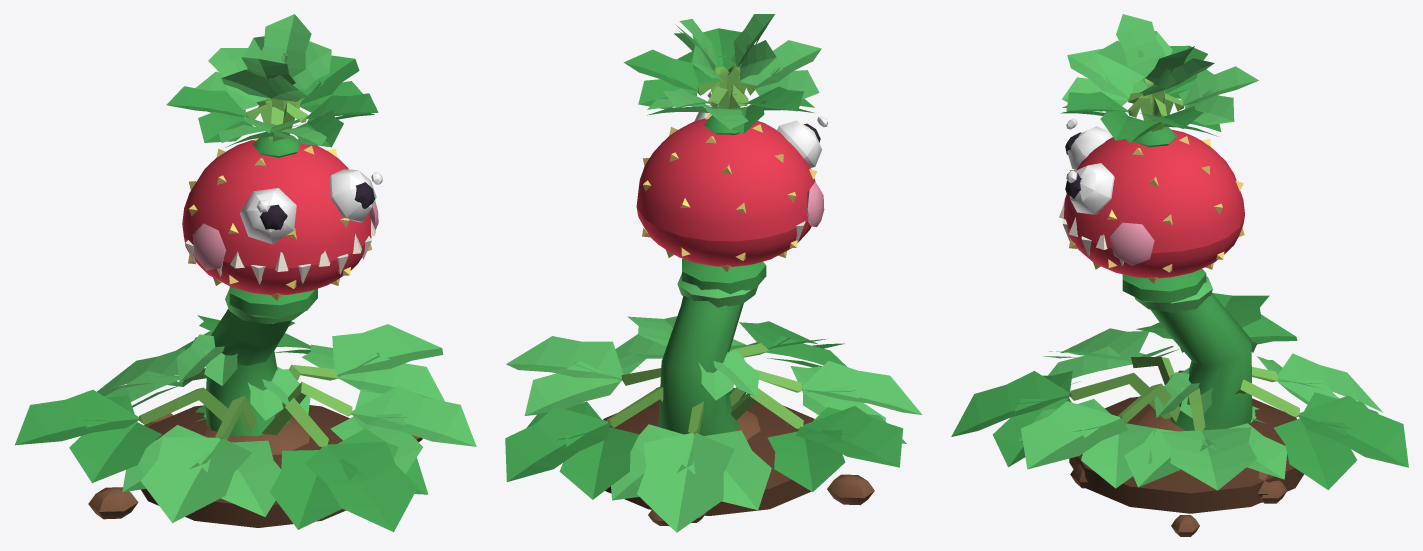
The model's file is GuardianSprout.glb.
The picture shows the model from 3 angles, left to right: view 1: azimuth 30°, elevation 25°; view 2: azimuth 150°, elevation 25°; view 3: azimuth 270°, elevation 25°; orthographic projection. The views are drawn at different scales.
Visible parts, largest first — view 1: Leaves, JawTop, Crown, Stem, JawBottom, Head; view 2: Leaves, JawTop, Crown, Stem, JawBottom, Head; view 3: Leaves, JawTop, Crown, Stem, JawBottom, Head.
Part boxes in pixels (<box>): Leaves: <box>15,315,476,532</box>; JawTop: <box>182,138,382,284</box>; Crown: <box>166,14,378,157</box>; Stem: <box>176,309,310,436</box>; JawBottom: <box>184,219,375,300</box>; Head: <box>225,286,317,324</box>; Leaves: <box>505,316,922,532</box>; JawTop: <box>636,91,828,242</box>; Crown: <box>623,14,821,134</box>; Stem: <box>655,295,759,435</box>; JawBottom: <box>636,207,811,272</box>; Head: <box>677,258,766,307</box>; Leaves: <box>951,293,1408,536</box>; JawTop: <box>1062,118,1244,266</box>; Crown: <box>1060,14,1258,147</box>; Stem: <box>1150,292,1266,430</box>; JawBottom: <box>1059,204,1244,283</box>; Head: <box>1122,269,1212,312</box>.
Size of the model in its own units: 0.5089 by 0.5522 by 0.5029.
Materials: 1 (1 with a texture image).
